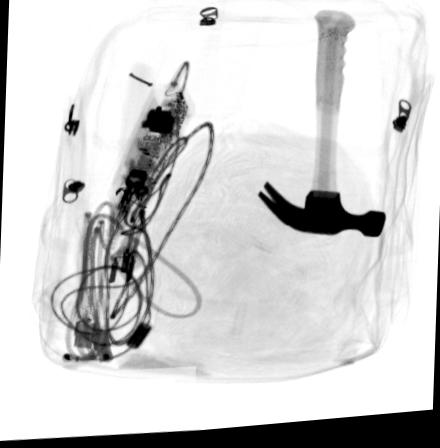Hammer: (255, 14, 385, 244)
